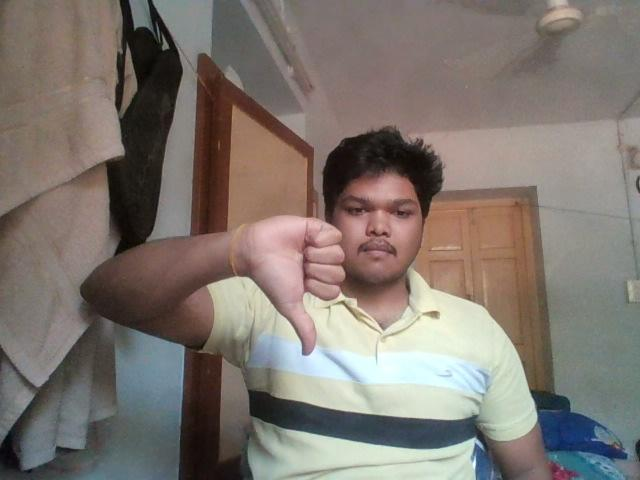no: (223, 181, 351, 375)
